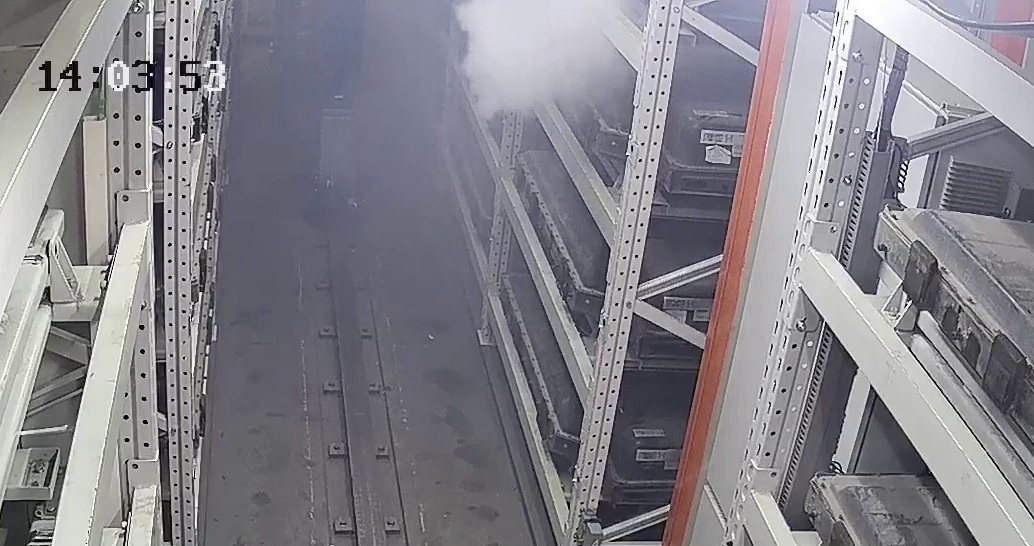smoke: (447, 4, 622, 127)
